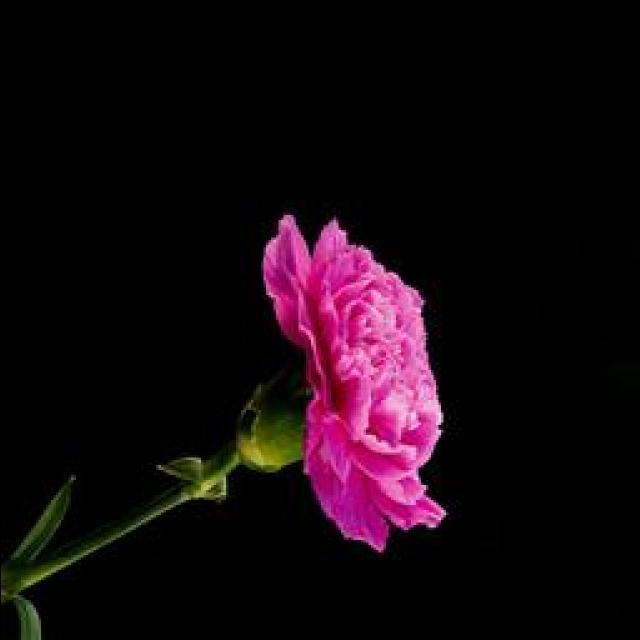carnation: (212, 194, 461, 578)
